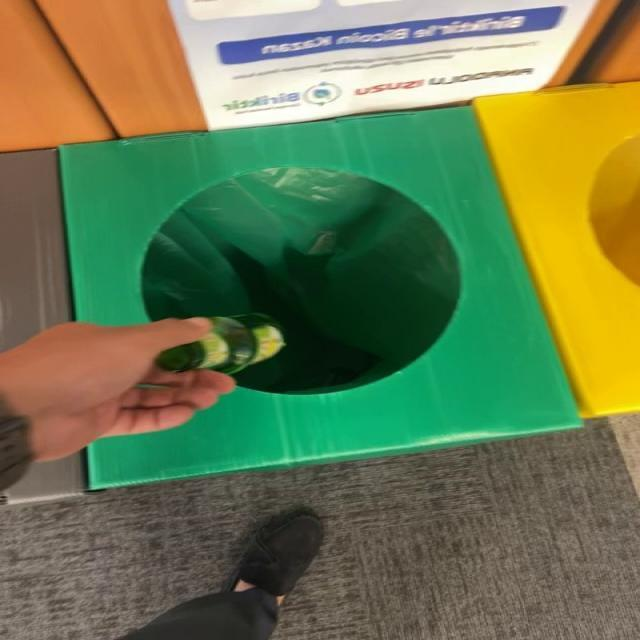Glass: (155, 314, 285, 374)
